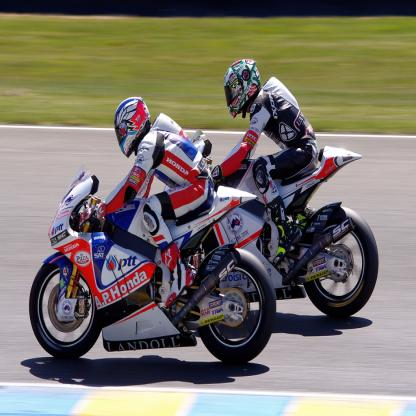Helmet: (219, 53, 260, 120), (113, 95, 146, 160)
